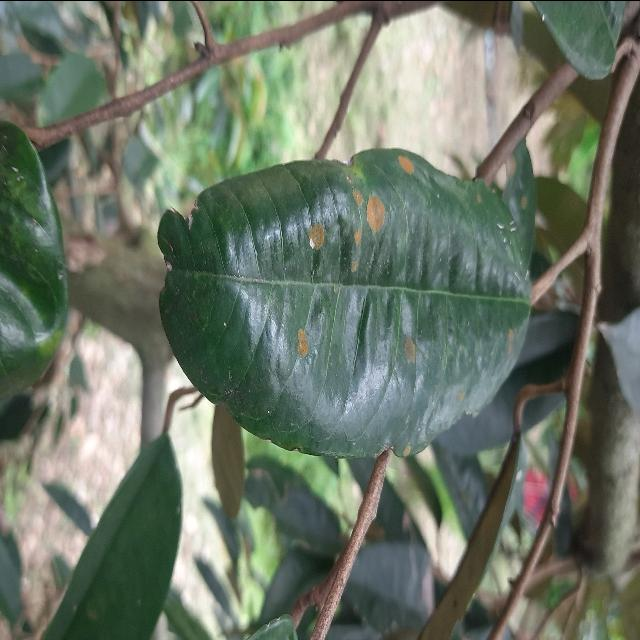Algal Leaf Spot: (157, 141, 539, 459)
